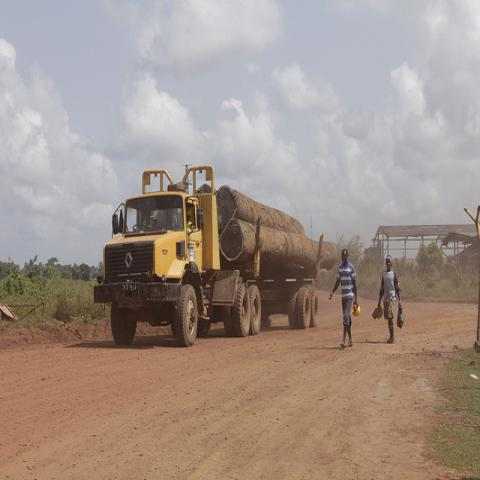truck: (94, 166, 338, 349)
